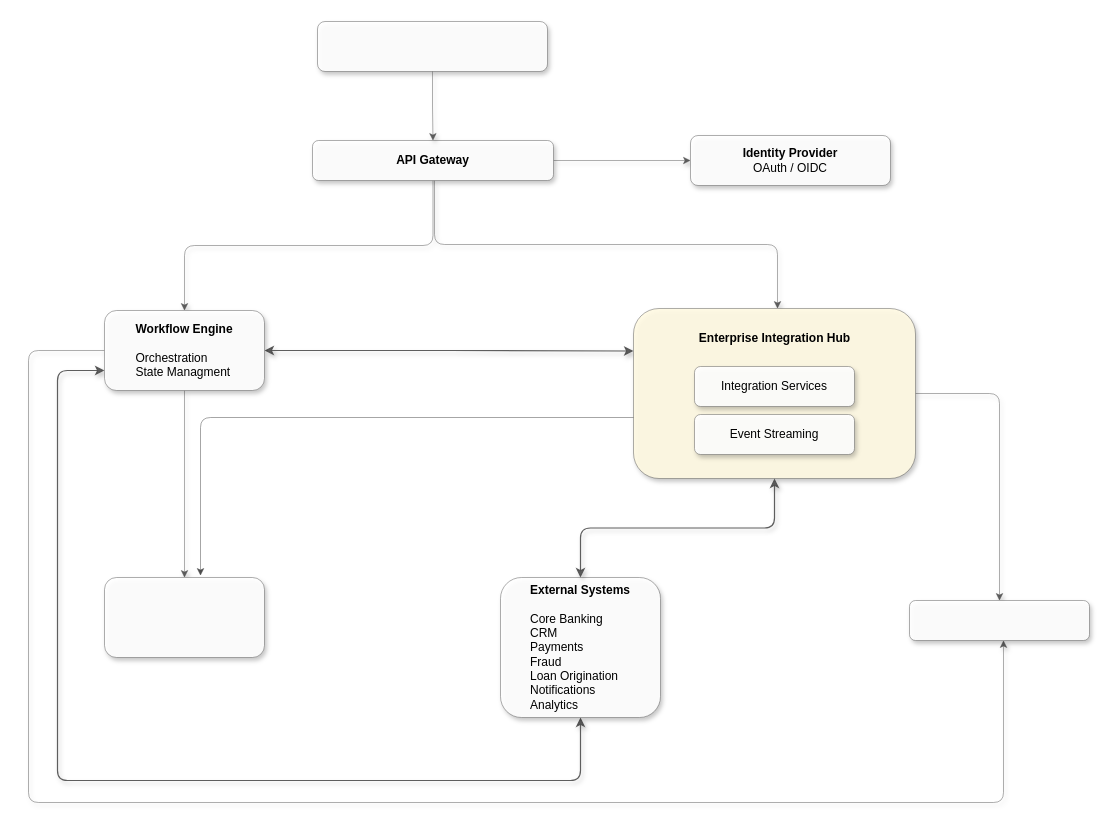
Image size: 1113x835. Some labels were removed from this diagram. Each missing label, with the centre of its shape:
"Channels Web | Mobile | Partner" goes at point 433,47.
"Databases SQL No-SQL" goes at point 185,618.
"Monitoring & Observability" goes at point 1000,621.
